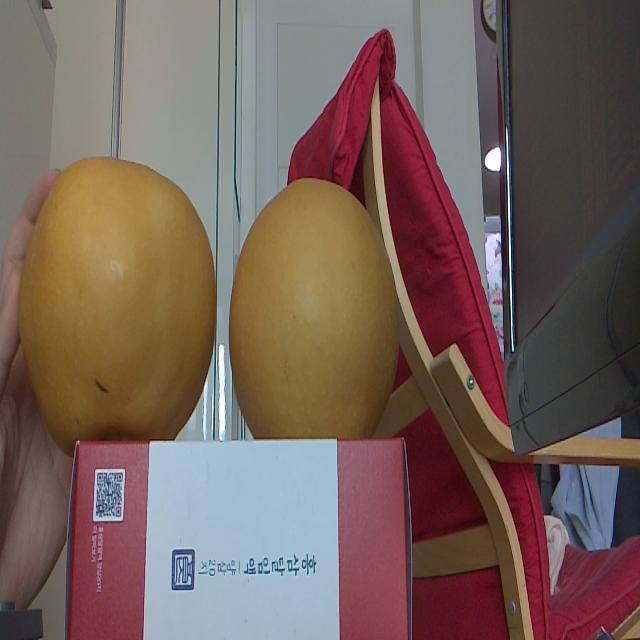pear: (20, 157, 216, 437), (230, 179, 398, 439)
